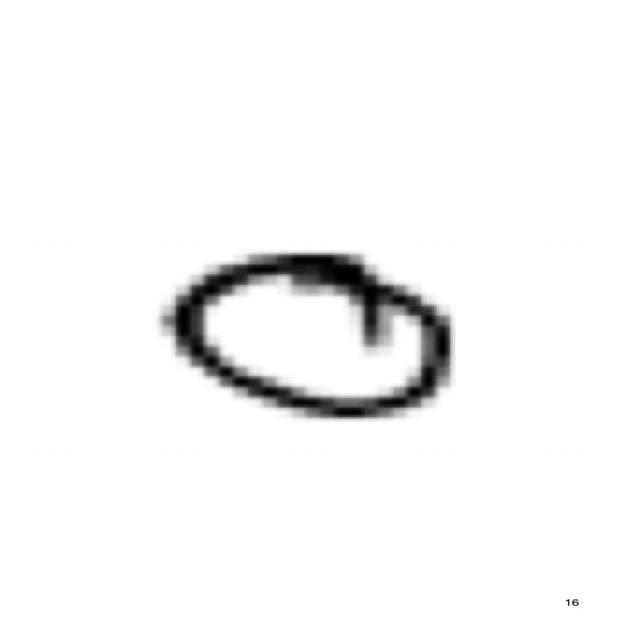5 -five-: (153, 240, 466, 426)
